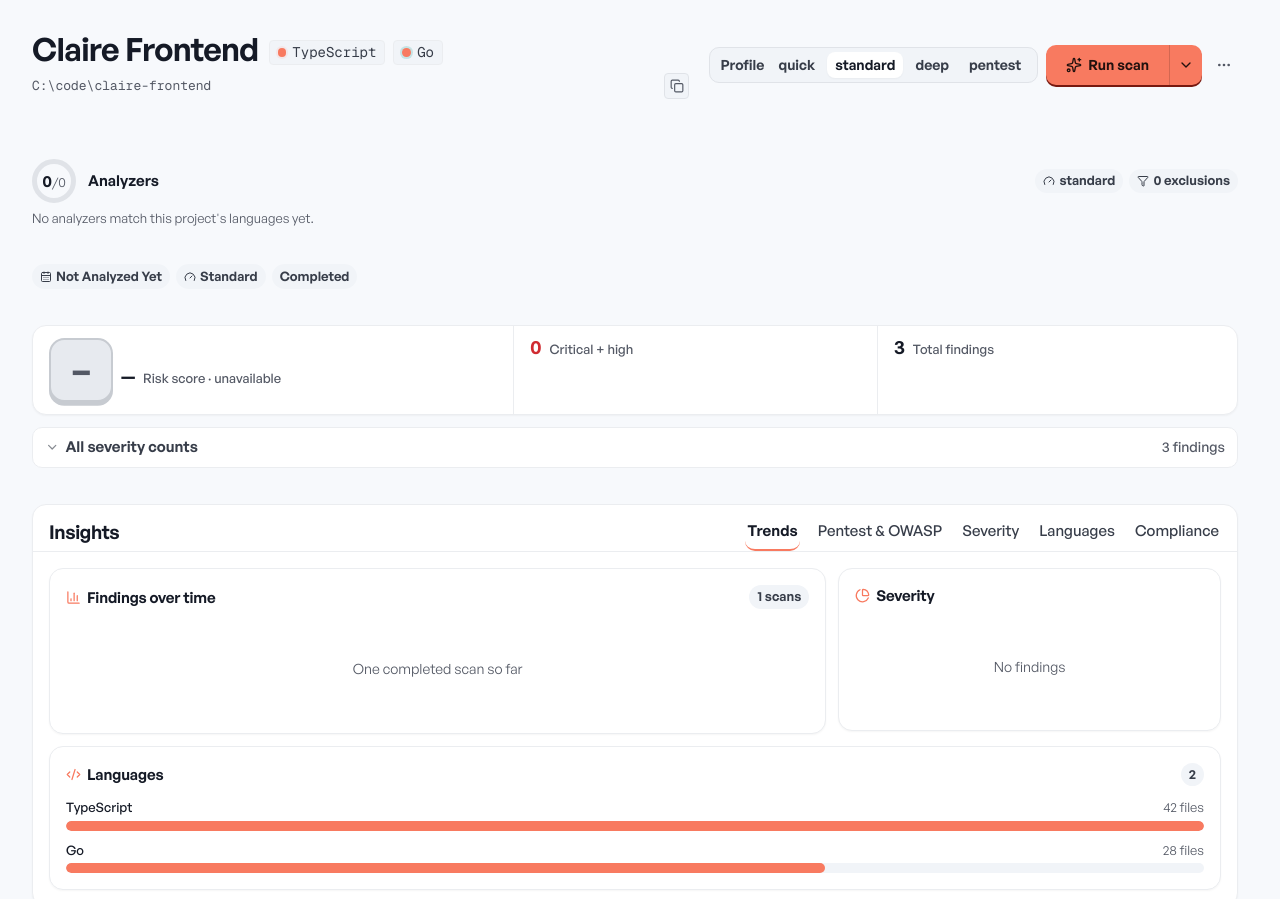
Test case: WorkspaceDetailPage per-language coverage › backfills the workspace latest_scan snapshot from the scans list so the Languages tab shows real counts
Press the mouse on the tab "Languages" at (1077,532), box x1=1037 y1=513 x2=1117 y2=551
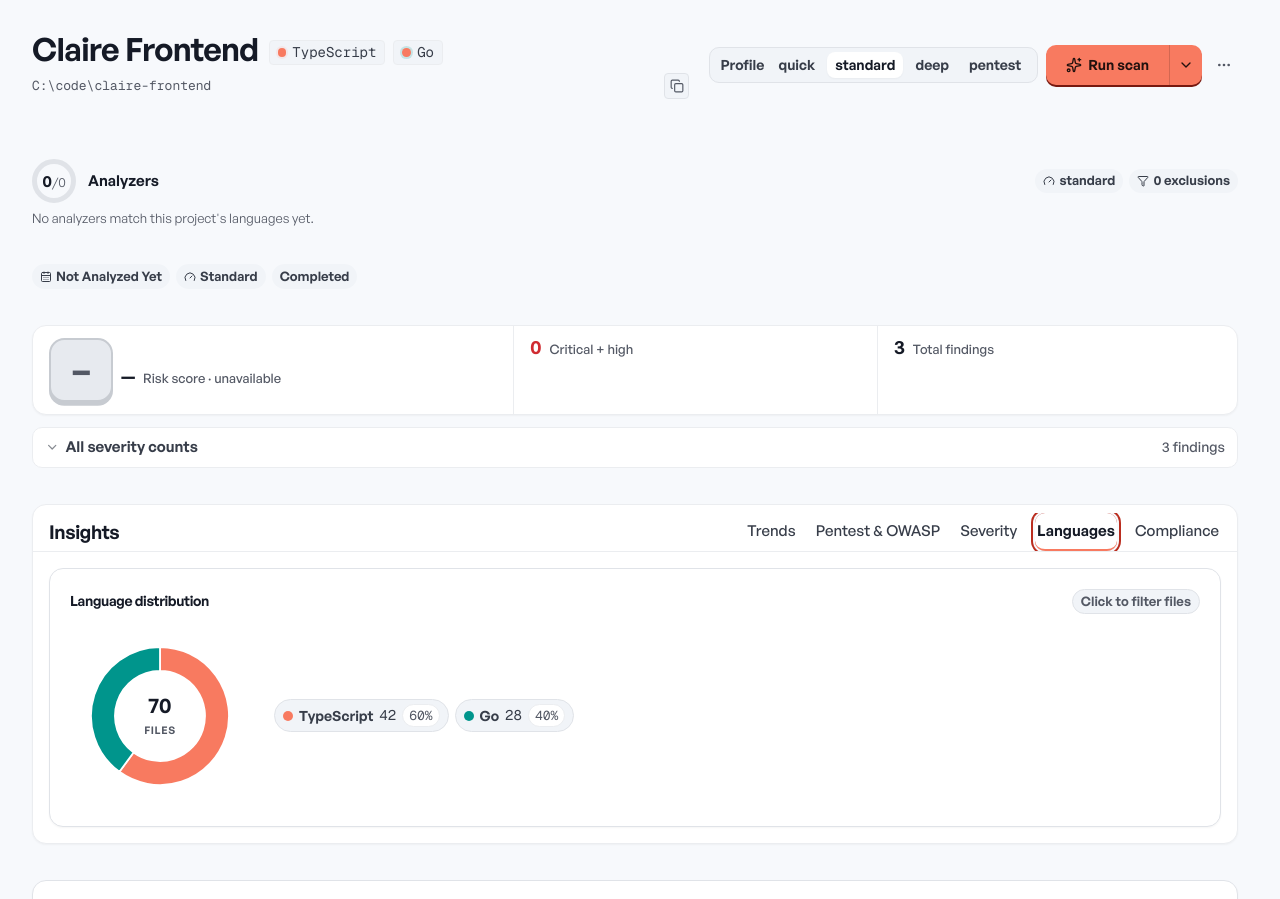
Expected: the element named "Language distribution" shows "TypeScript", x1=274 y1=699 x2=449 y2=732
Expected: the element named "Language distribution" shows "42", x1=274 y1=699 x2=449 y2=732
Expected: the element named "Language distribution" shows "70", x1=148 y1=692 x2=172 y2=718
